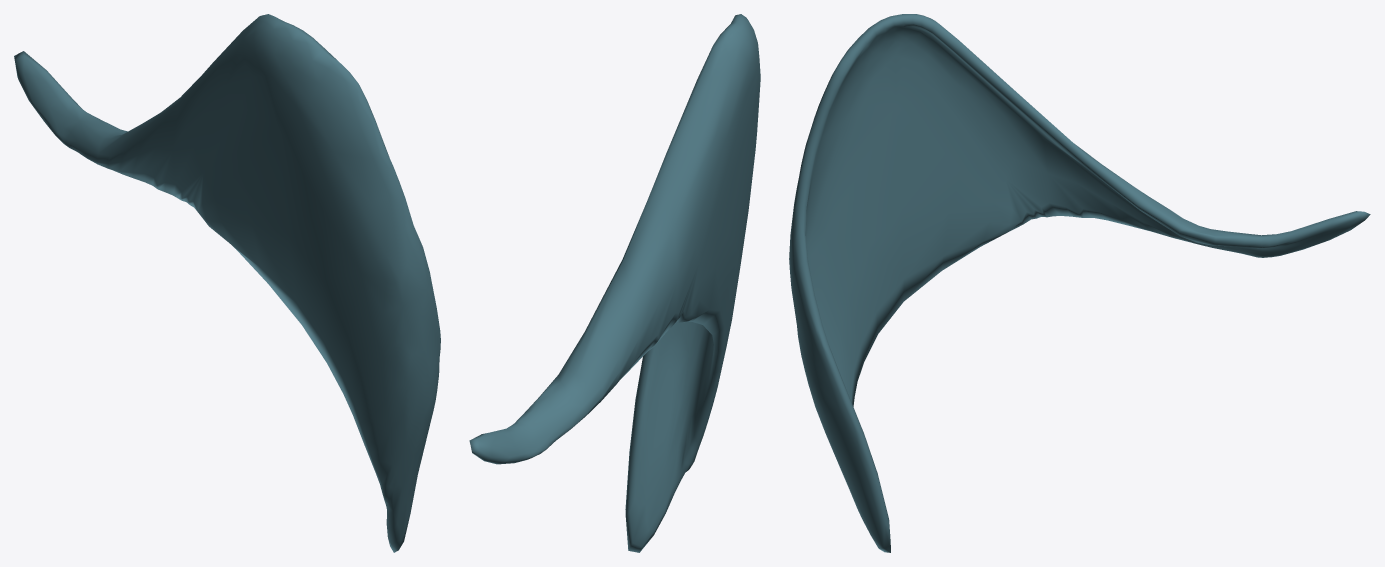
File: Temporalis_coronoid_process_mandible_right.glb
3 views of the same model, side by side, from view 1: azimuth 30°, elevation 25°; view 2: azimuth 150°, elevation 25°; view 3: azimuth 270°, elevation 25° (orthographic). The views are drawn at different scales.
Visible parts, largest first — view 1: Temporalis_muscle_on_coronoid_process_of_mandible.r_Generate; view 2: Temporalis_muscle_on_coronoid_process_of_mandible.r_Generate; view 3: Temporalis_muscle_on_coronoid_process_of_mandible.r_Generate.
Boxes of the visible parts, x1,y1,x2,y2 form: Temporalis_muscle_on_coronoid_process_of_mandible.r_Generate: [14, 14, 440, 552]; Temporalis_muscle_on_coronoid_process_of_mandible.r_Generate: [469, 14, 760, 552]; Temporalis_muscle_on_coronoid_process_of_mandible.r_Generate: [789, 14, 1370, 552].
Bounding box in the file's own units: 0.00576 × 0.0205 × 0.0219.
